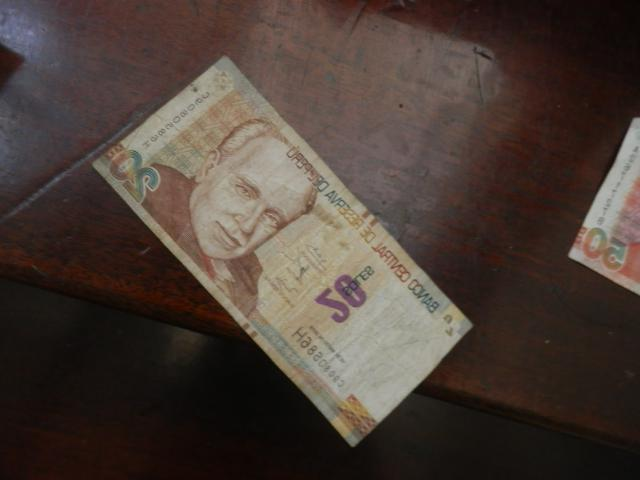B20: (96, 56, 471, 443)
